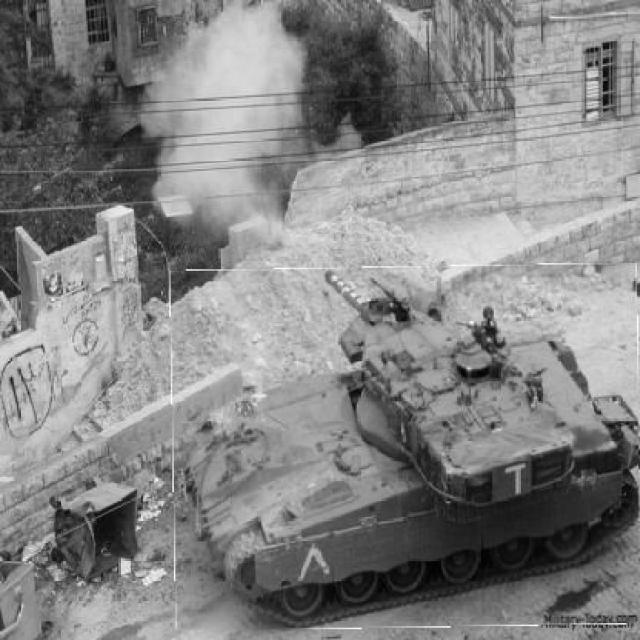Tank: (171, 266, 640, 632)
